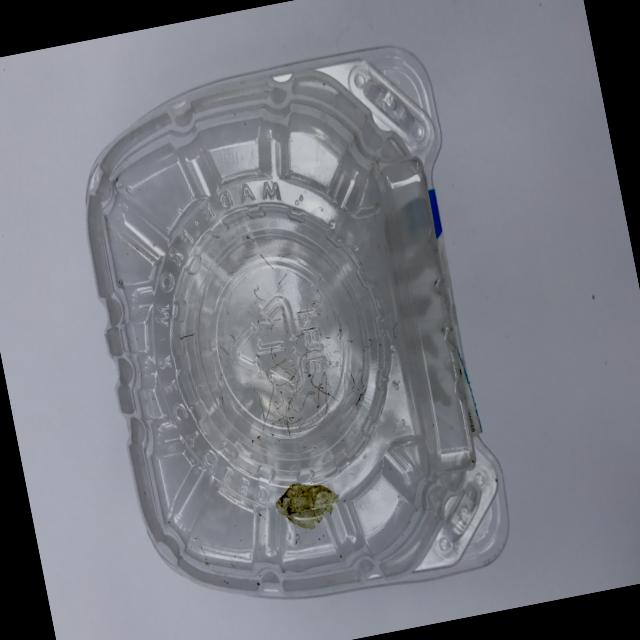Plastic: (42, 18, 558, 640)
